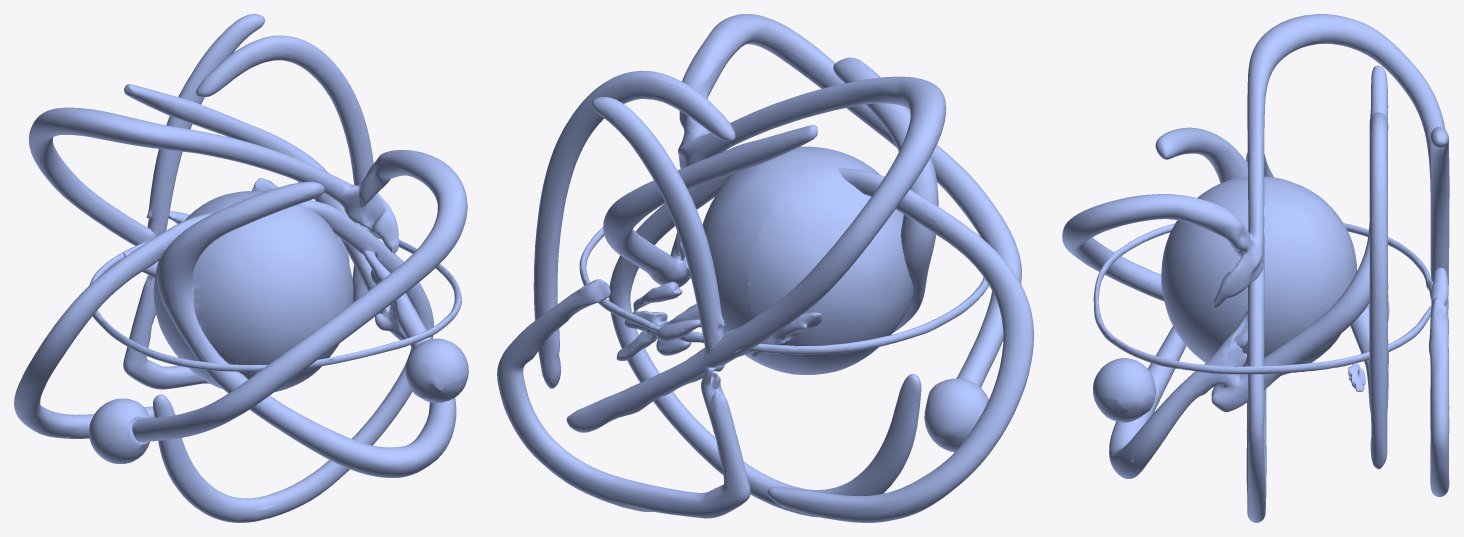
Rendered from fisica.glb.
The picture shows the model from 3 angles, left to right: view 1: azimuth 30°, elevation 25°; view 2: azimuth 150°, elevation 25°; view 3: azimuth 270°, elevation 25°; orthographic projection. The views are drawn at different scales.
Visible parts, largest first — view 1: model; view 2: model; view 3: model.
Boxes of the visible parts, bbox=[...] form: model: bbox=[14, 14, 468, 522]; model: bbox=[497, 14, 1033, 522]; model: bbox=[1062, 14, 1449, 522].
Size of the model in its own units: 1.86 by 1.9 by 1.58.
